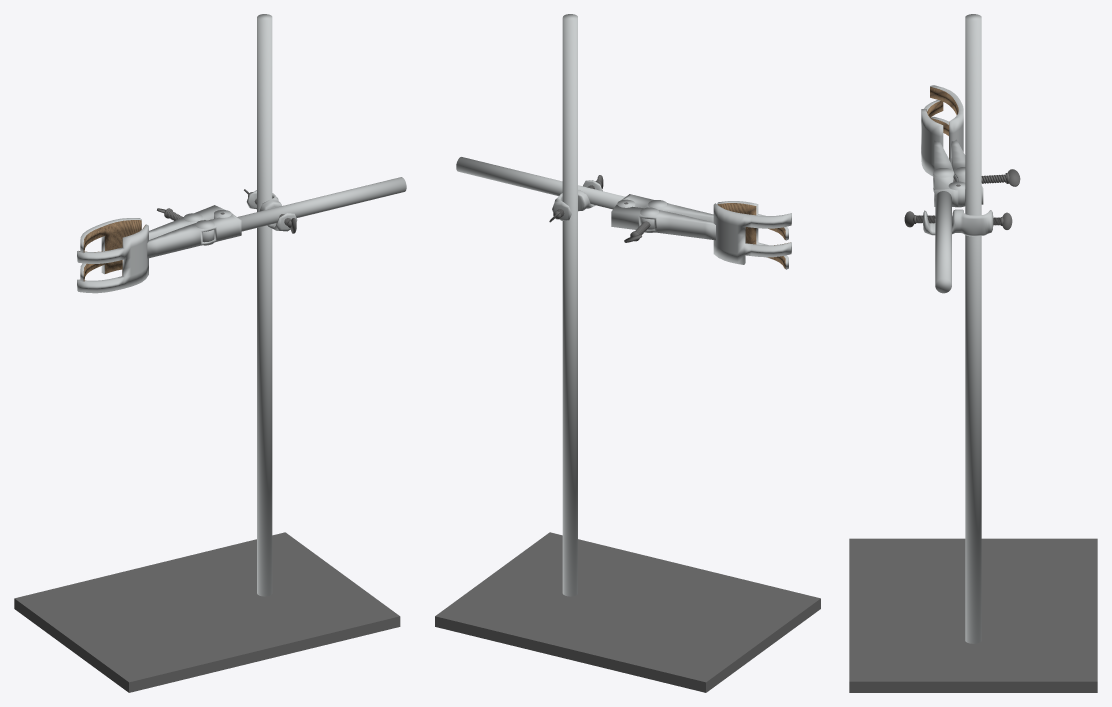
Rendered from RetortStand2.gltf.
The picture shows the model from 3 angles, left to right: view 1: azimuth 30°, elevation 25°; view 2: azimuth 150°, elevation 25°; view 3: azimuth 270°, elevation 25°; orthographic projection. The views are drawn at different scales.
Parts seen in each view (by area): view 1: Cylinder.028, Cylinder.031, Cube.006, Plane.008, Plane.009, Cube.007, Cube.001; view 2: Cylinder.028, Cylinder.031, Cube.006, Plane.009, Cube.007, Plane.008, Cube.001; view 3: Cylinder.028, Cylinder.031, Cube.006, Plane.008, Plane.009, Cube.001, Cube.007.
Boxes of the visible parts, box(x1,y1,x2,y2) form: Cylinder.028: box(14, 532, 400, 692); Cylinder.031: box(257, 14, 272, 596); Cube.006: box(147, 177, 406, 258); Plane.008: box(77, 224, 148, 293); Plane.009: box(80, 218, 141, 281); Cube.007: box(149, 205, 231, 239); Cube.001: box(246, 190, 297, 231); Cylinder.028: box(435, 532, 820, 692); Cylinder.031: box(562, 14, 577, 596); Cube.006: box(456, 157, 713, 222); Plane.009: box(713, 203, 791, 264); Cube.007: box(611, 199, 715, 240); Plane.008: box(717, 201, 788, 269); Cube.001: box(552, 180, 602, 220); Cylinder.028: box(849, 538, 1097, 692); Cylinder.031: box(965, 14, 981, 643); Cube.006: box(933, 140, 958, 293); Plane.008: box(921, 100, 943, 176); Plane.009: box(930, 85, 963, 165); Cube.001: box(923, 209, 993, 236); Cube.007: box(948, 139, 983, 207).
Size of the model in its own units: 0.2926 by 0.5059 by 0.1779.
Materials: 7 (7 with a texture image).
